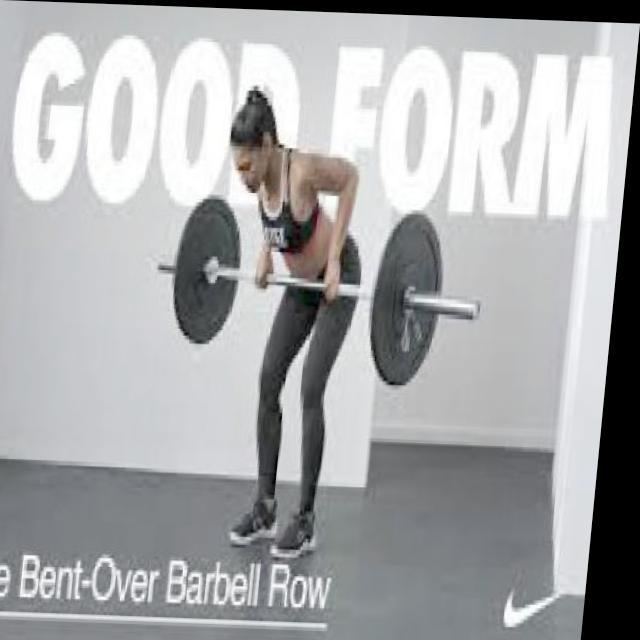barbell: (372, 204, 501, 389)
